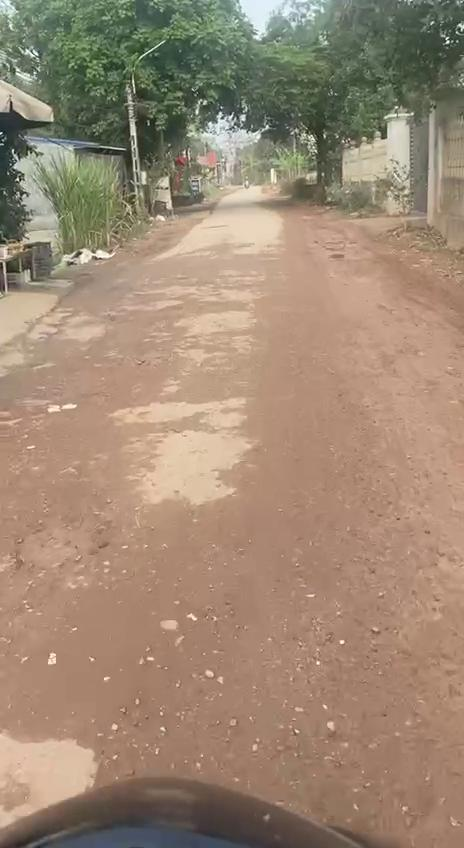pothole: (10, 510, 110, 578)
